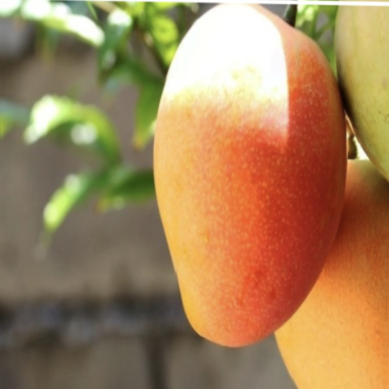mango: (132, 0, 377, 384)
